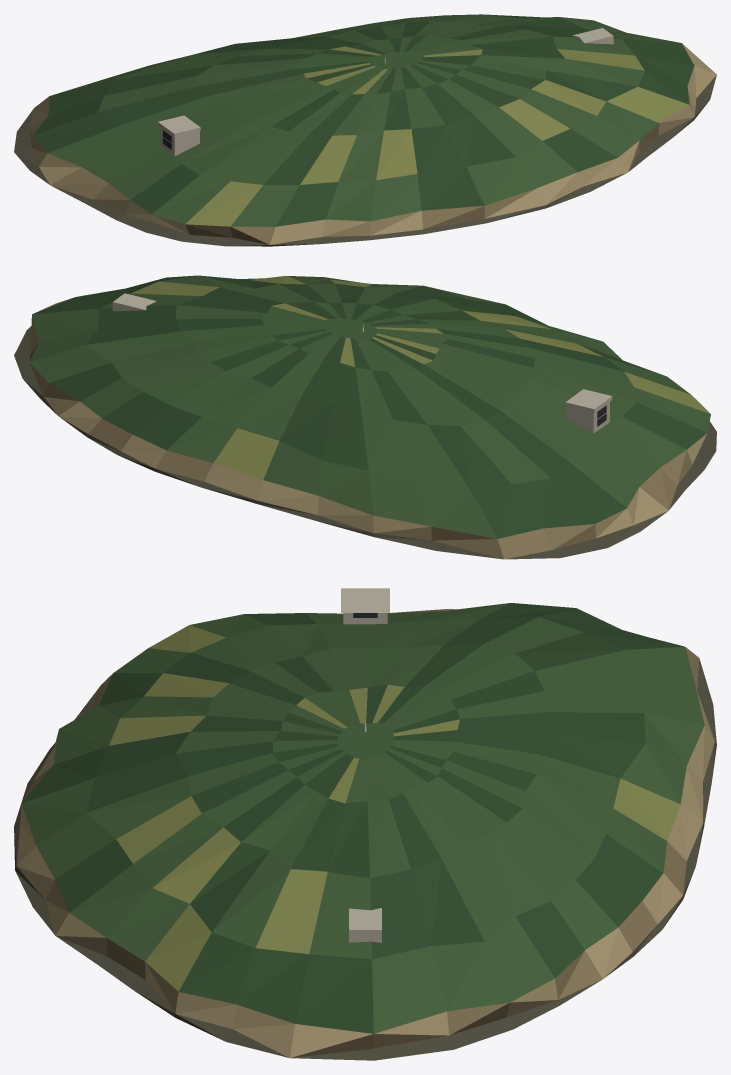
File: yerba_buena_island.glb
3 views of the same model, one above another, from view 1: azimuth 30°, elevation 25°; view 2: azimuth 150°, elevation 25°; view 3: azimuth 270°, elevation 25° (orthographic). The views are drawn at different scales.
Visible parts, largest first — view 1: yerba_buena_island; view 2: yerba_buena_island; view 3: yerba_buena_island.
Boxes of the visible parts, x1,y1,x2,y2 form: yerba_buena_island: [14, 14, 716, 246]; yerba_buena_island: [14, 275, 716, 559]; yerba_buena_island: [14, 588, 716, 1060].
Bounding box in the file's own units: 908 × 108 × 600.
1 material, 1 textured.
